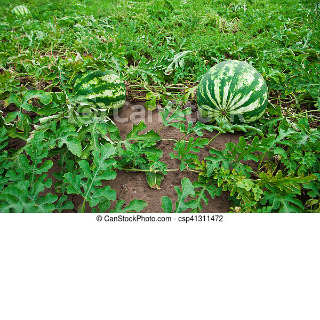dua_hau: (194, 58, 269, 128), (62, 63, 128, 116)
